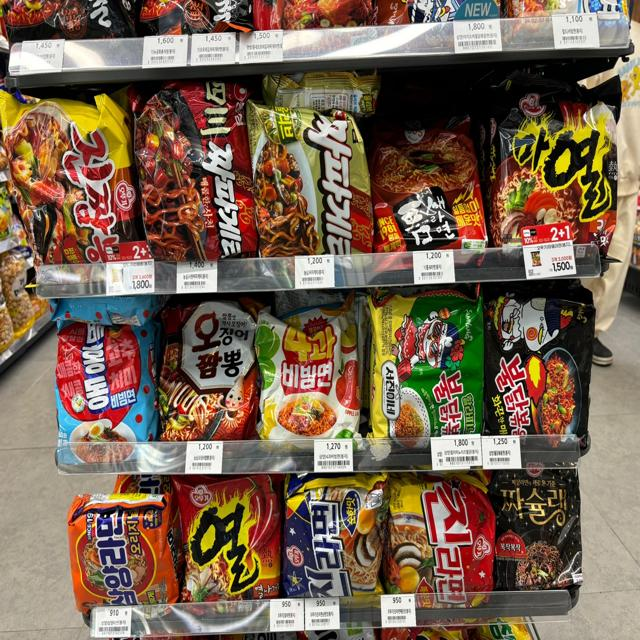product: (136, 75, 257, 263), (2, 98, 129, 266), (493, 88, 617, 245), (253, 103, 377, 254), (488, 291, 594, 438), (376, 299, 481, 436), (176, 474, 280, 607), (53, 319, 155, 452), (257, 303, 358, 435), (394, 481, 495, 606), (378, 126, 481, 247), (163, 303, 256, 436), (70, 497, 173, 610), (287, 479, 386, 596), (495, 465, 585, 587)
